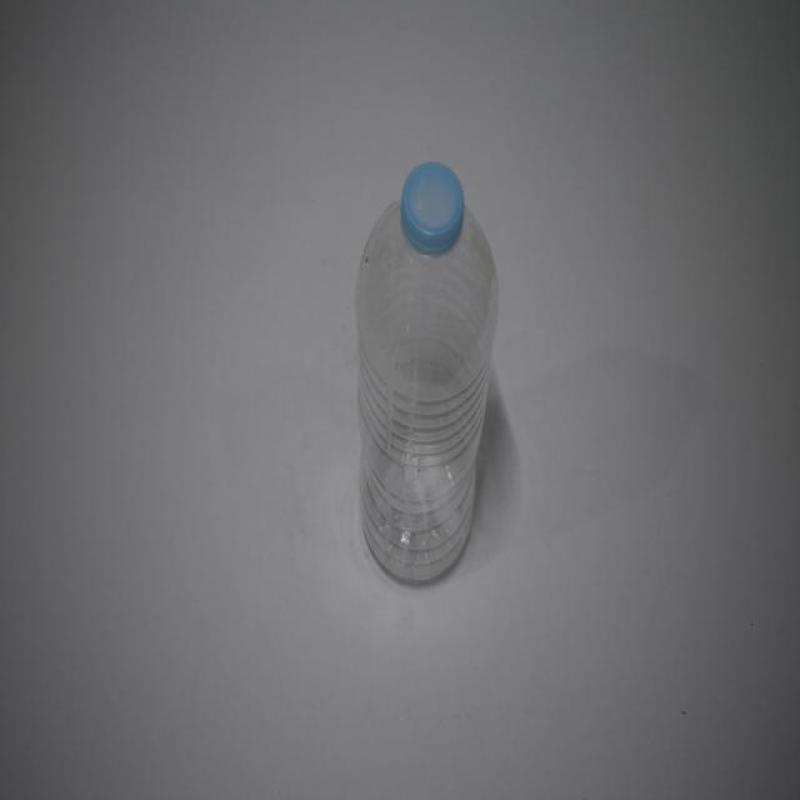botella: (356, 159, 500, 590)
